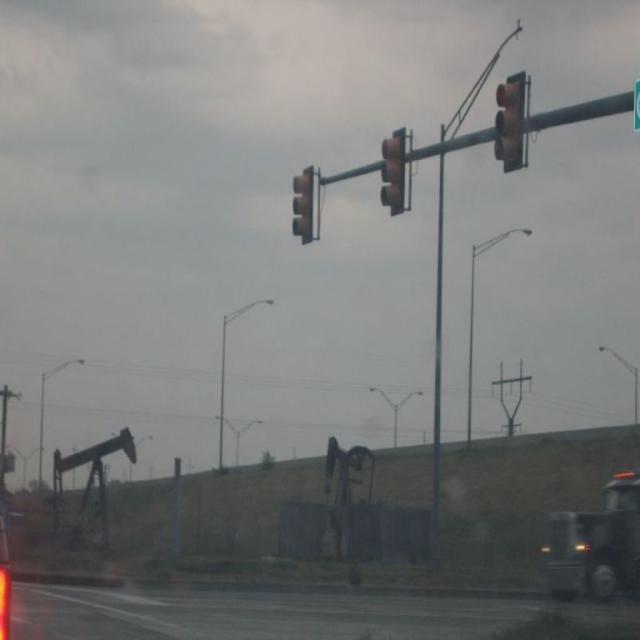off traffic light: (492, 75, 529, 172), (379, 134, 408, 213), (293, 167, 315, 242)
